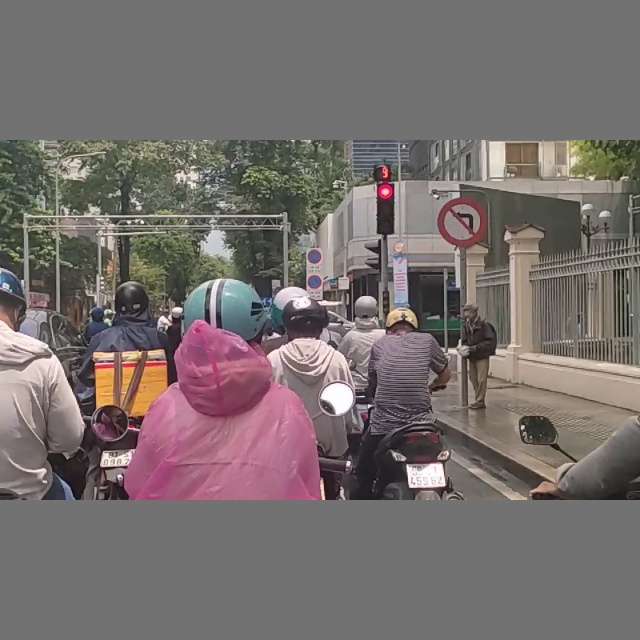P.123a: (436, 193, 487, 248)
P.130: (307, 249, 322, 264)
P.131a: (307, 273, 322, 289)
